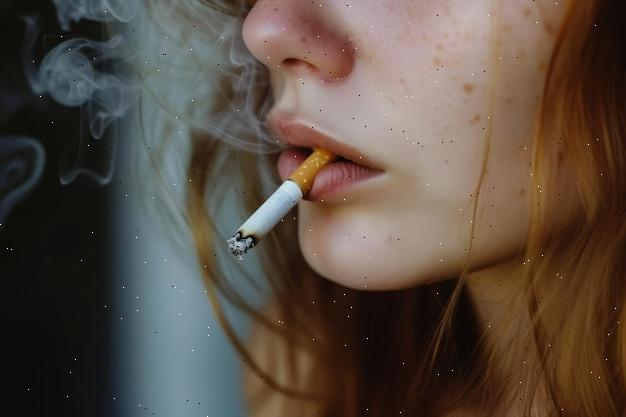cigarette: (227, 148, 336, 259)
